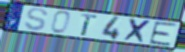0: (49, 10, 73, 35)
4: (101, 15, 122, 41)
E: (148, 21, 179, 48)
S: (23, 7, 49, 32)
T: (80, 13, 98, 37)
X: (122, 17, 154, 45)
